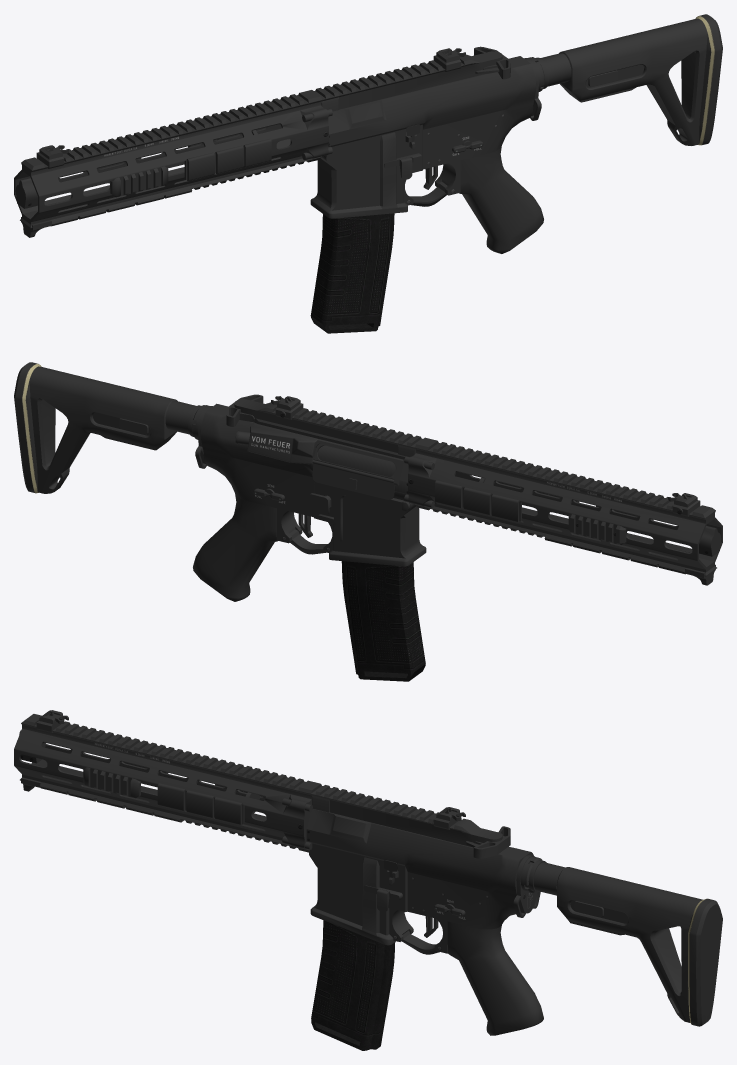
File: weapon_carbinerifle_mk2.glb
3 renders of one model, top to bottom at view 1: azimuth 30°, elevation 25°; view 2: azimuth 150°, elevation 25°; view 3: azimuth 330°, elevation 25°, orthographic.
Parts seen in each view (by area): view 1: main_frame_carbinerifle_mk2, rail_carbinerifle_mk2, stock_carbinerifle_mk2, magazine_carbinerifle_mk2, front_sight_carbinerifle_mk2, rear_sight_carbinerifle_mk2; view 2: main_frame_carbinerifle_mk2, rail_carbinerifle_mk2, stock_carbinerifle_mk2, magazine_carbinerifle_mk2, front_sight_carbinerifle_mk2, rear_sight_carbinerifle_mk2; view 3: main_frame_carbinerifle_mk2, rail_carbinerifle_mk2, stock_carbinerifle_mk2, magazine_carbinerifle_mk2.
Boxes of the visible parts, x1,y1,x2,y2 form: main_frame_carbinerifle_mk2: (310, 46, 544, 253); rail_carbinerifle_mk2: (14, 90, 332, 237); stock_carbinerifle_mk2: (535, 14, 722, 145); magazine_carbinerifle_mk2: (310, 213, 394, 333); front_sight_carbinerifle_mk2: (36, 145, 68, 168); rear_sight_carbinerifle_mk2: (433, 48, 465, 71); main_frame_carbinerifle_mk2: (192, 394, 426, 601); rail_carbinerifle_mk2: (404, 437, 722, 585); stock_carbinerifle_mk2: (14, 362, 201, 493); magazine_carbinerifle_mk2: (341, 561, 425, 681); front_sight_carbinerifle_mk2: (668, 493, 700, 516); rear_sight_carbinerifle_mk2: (271, 396, 303, 419); main_frame_carbinerifle_mk2: (306, 785, 543, 1035); rail_carbinerifle_mk2: (14, 714, 321, 852); stock_carbinerifle_mk2: (528, 860, 722, 1026); magazine_carbinerifle_mk2: (311, 920, 395, 1050).
Bounding box in the file's own units: 90.02 × 31.89 × 7.9.
Materials: 3 (3 with a texture image).
